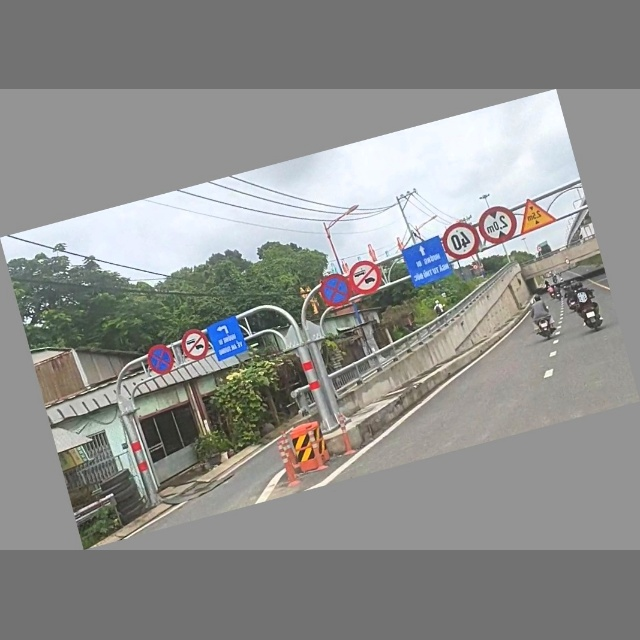P.107: (345, 257, 385, 299), (177, 326, 213, 365)
P.117*: (473, 203, 521, 249)
P.127*40: (438, 220, 482, 263)
P.130: (315, 272, 355, 311), (143, 342, 177, 380)
W.239b*: (512, 193, 561, 238)
